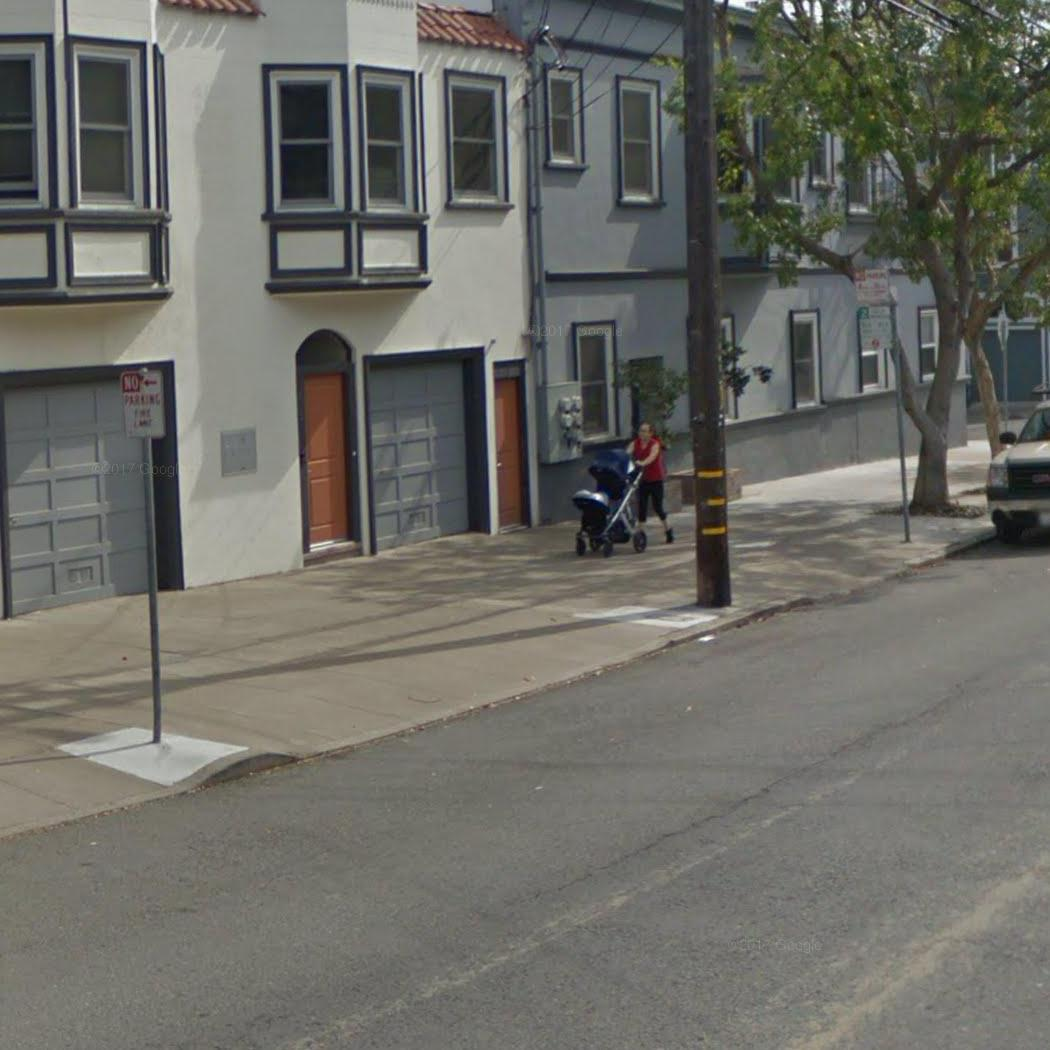2 Hour Parking: (854, 306, 897, 357)
No Parking: (851, 268, 889, 305)
No Parking Anytime: (120, 367, 163, 432)
